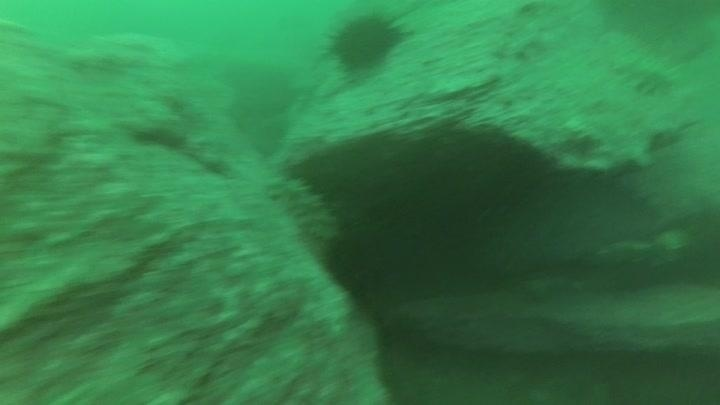echinus: (320, 222, 401, 303), (323, 8, 410, 77)
holothurian: (267, 172, 343, 248), (605, 33, 681, 97)
